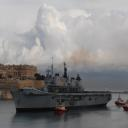Portanaves: (11, 57, 114, 115)
